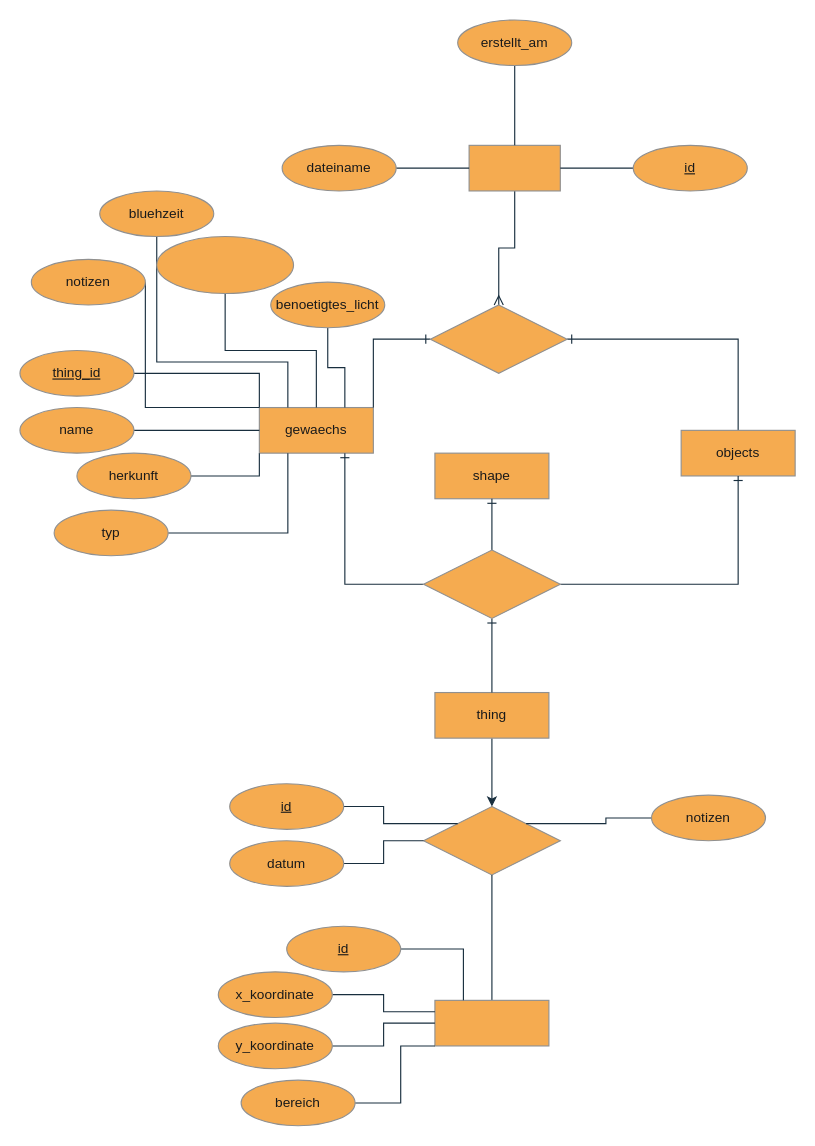
The diagram is 815 pixels wide and 1146 high, and some of its shapes have lost their labels. The shapes that lost their labels are listed below. From the top down, each one's centre as x and y in pixels, then its label:
pixel 514 167: icon
pixel 225 264: lateinischer_name
pixel 498 338: haben
pixel 491 583: gehört zu
pixel 491 840: platziert
pixel 491 1022: ort
